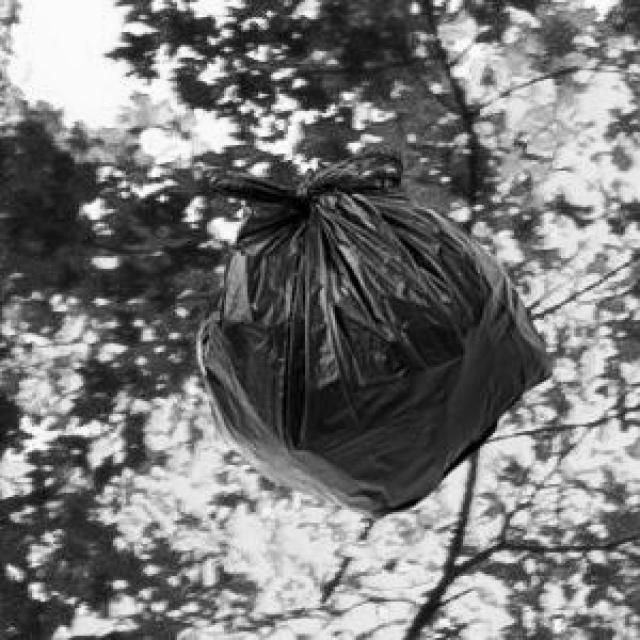miscellaneous trash: (194, 145, 546, 514)
